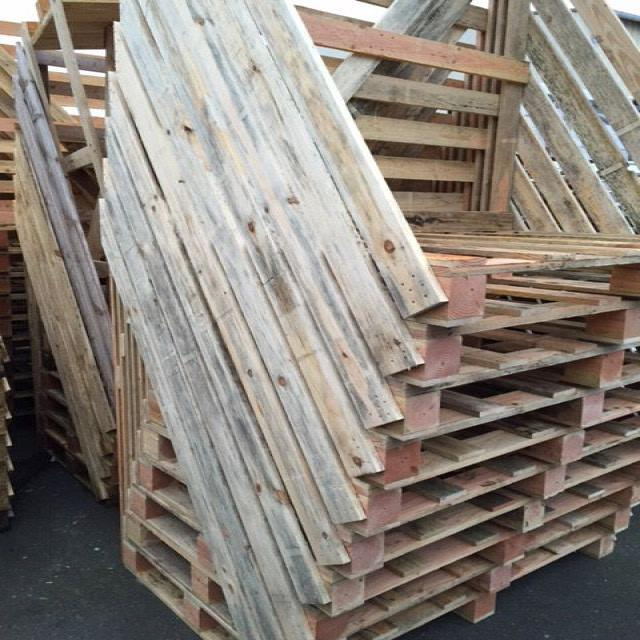palette: (322, 236, 640, 640), (310, 12, 545, 212), (108, 307, 246, 640), (0, 213, 43, 442)
